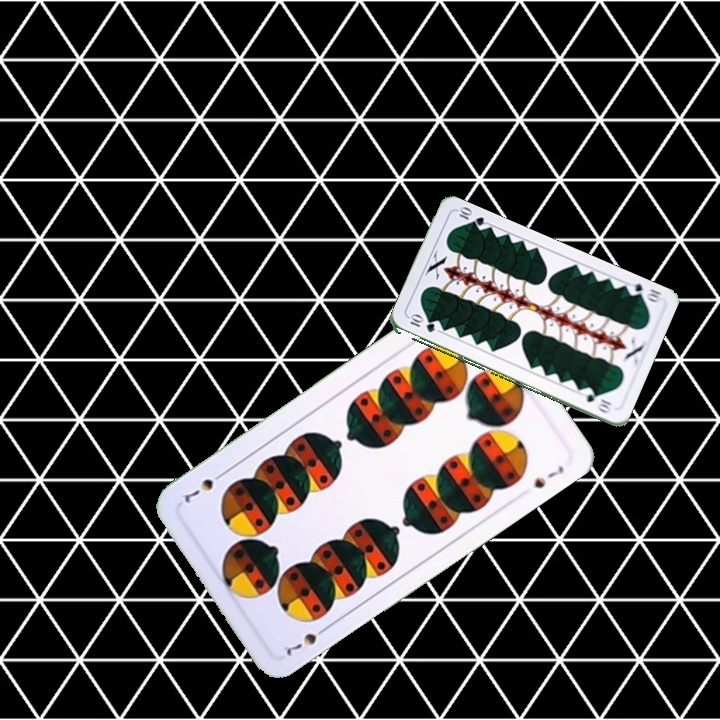G10: (623, 279, 664, 305), (405, 312, 438, 335)
S7: (279, 621, 332, 658)
